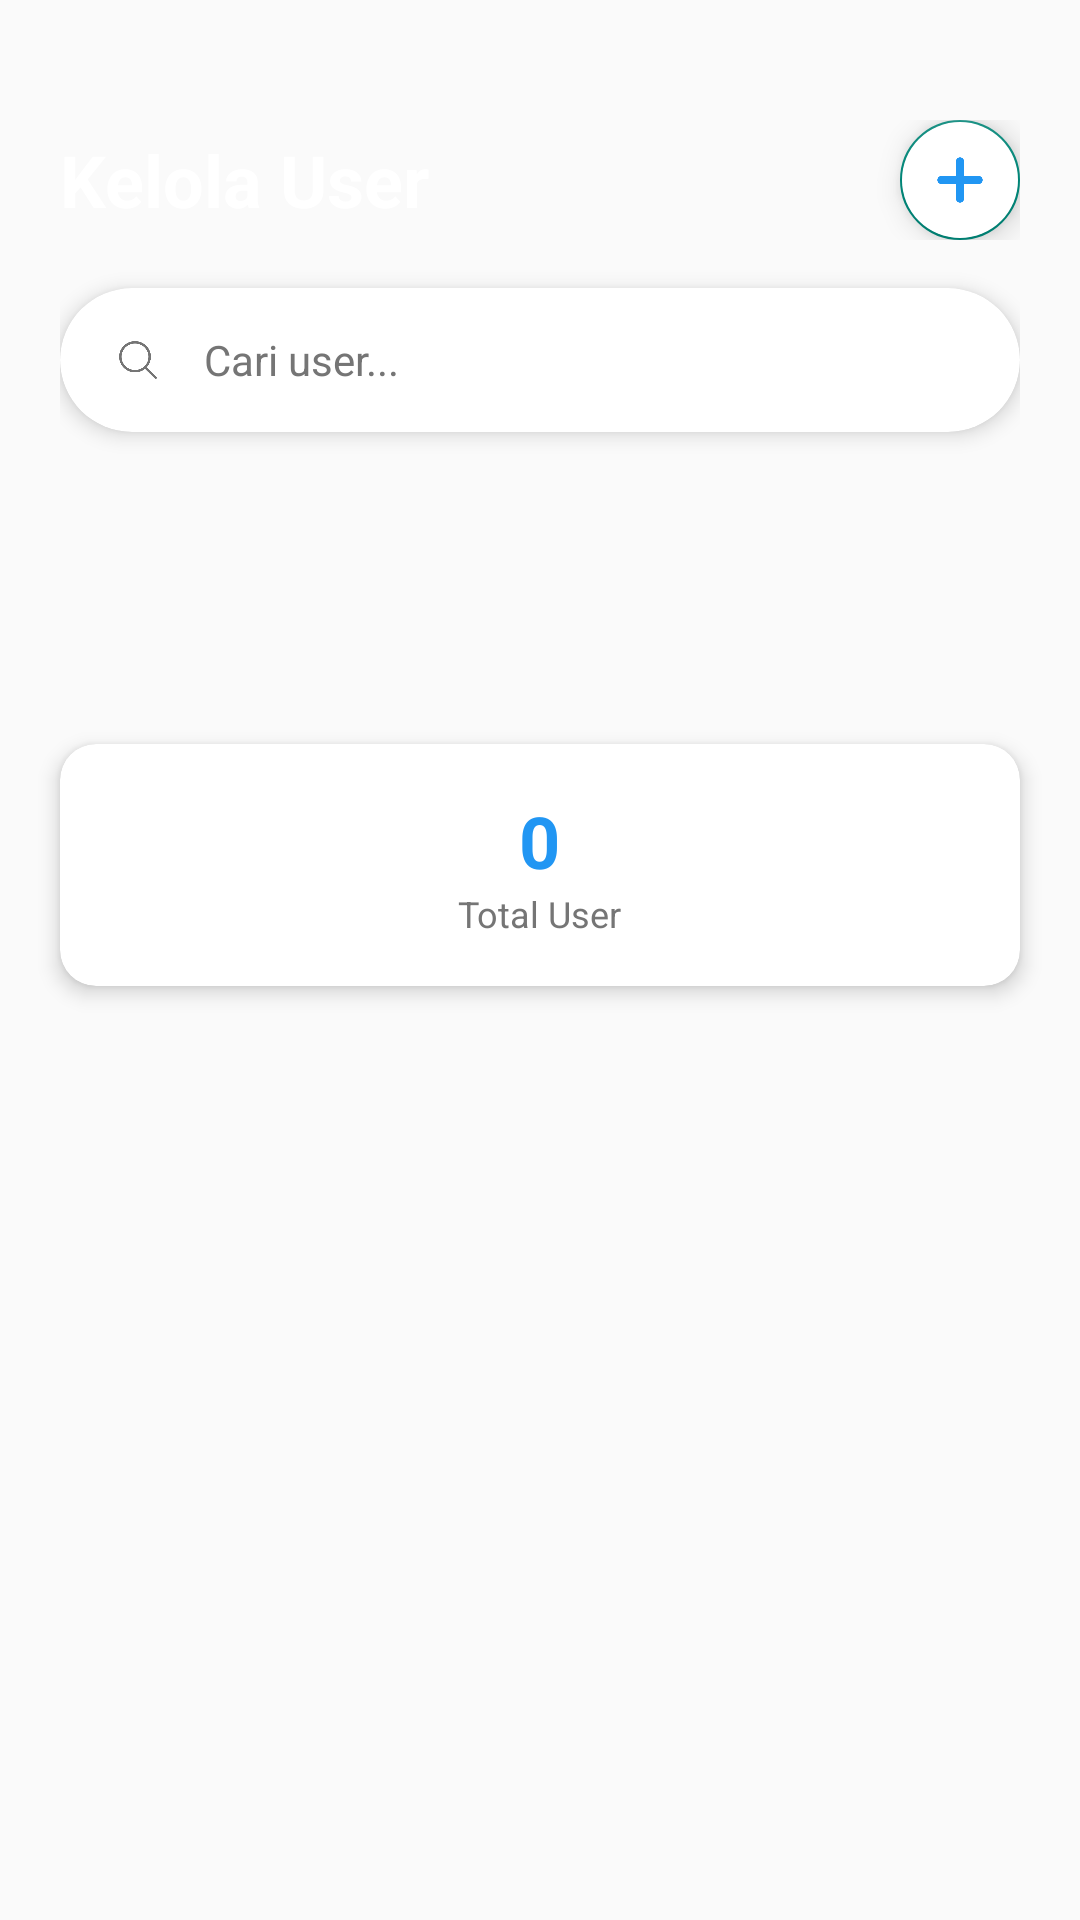

Icon bounding boxes for this 1080×1920 phone screenshot, format region(x1, y1, x2, y2):
search: region(119, 341, 157, 379)
Tambah User: region(900, 120, 1020, 240)
